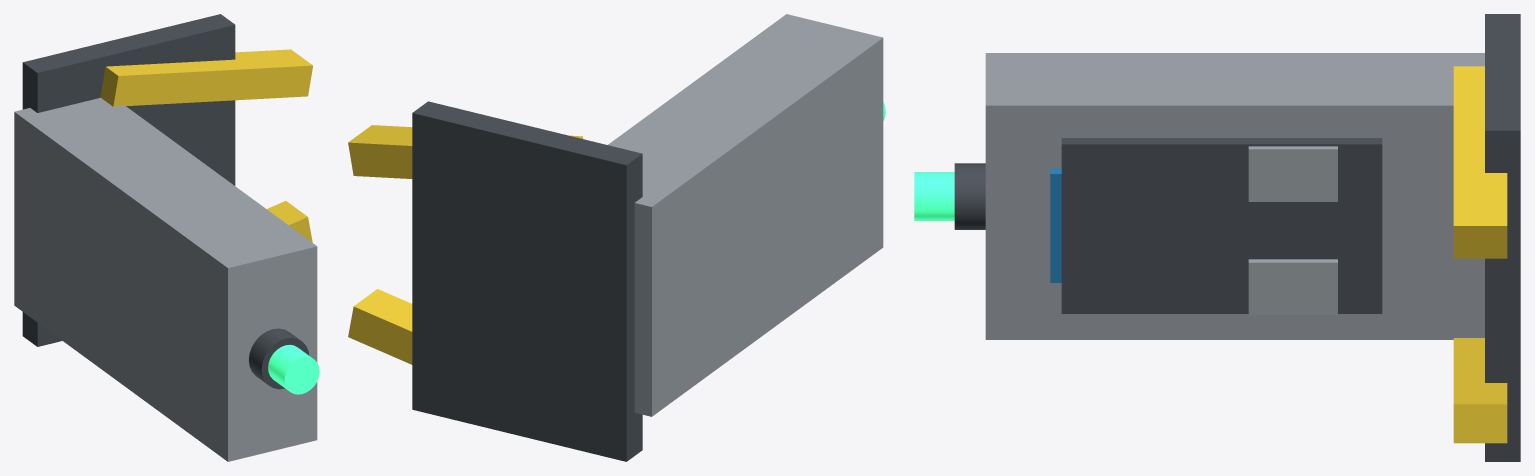
File: charging-station.glb
3 renders of one model, left to right at view 1: azimuth 30°, elevation 25°; view 2: azimuth 150°, elevation 25°; view 3: azimuth 270°, elevation 25°, orthographic. The views are drawn at different scales.
Parts seen in each view (by area): view 1: column, floor-base, guide-left, beacon, beacon-base, guide-right; view 2: column, floor-base, guide-right, guide-left; view 3: column, column-face, floor-base, guide-left, contact-left, contact-right, guide-right, beacon-base, beacon, service-panel.
Part boxes in pixels (x1=…): column: x1=14, y1=97, x2=317, y2=461; floor-base: x1=22, y1=14, x2=235, y2=346; guide-left: x1=100, y1=49, x2=312, y2=106; beacon: x1=268, y1=345, x2=319, y2=394; beacon-base: x1=249, y1=328, x2=309, y2=389; guide-right: x1=267, y1=201, x2=312, y2=242; column: x1=608, y1=14, x2=883, y2=416; floor-base: x1=412, y1=101, x2=642, y2=461; guide-right: x1=348, y1=289, x2=412, y2=364; guide-left: x1=348, y1=125, x2=583, y2=178; column: x1=985, y1=53, x2=1484, y2=339; column-face: x1=1061, y1=138, x2=1382, y2=313; floor-base: x1=1485, y1=14, x2=1520, y2=461; guide-left: x1=1453, y1=66, x2=1507, y2=258; contact-left: x1=1248, y1=146, x2=1337, y2=201; contact-right: x1=1248, y1=259, x2=1337, y2=314; guide-right: x1=1453, y1=338, x2=1507, y2=443; beacon-base: x1=954, y1=163, x2=985, y2=229; beacon: x1=914, y1=172, x2=954, y2=220; service-panel: x1=1050, y1=168, x2=1061, y2=282.
Bounding box in the file's own units: 0.873 × 0.82 × 1.36.
